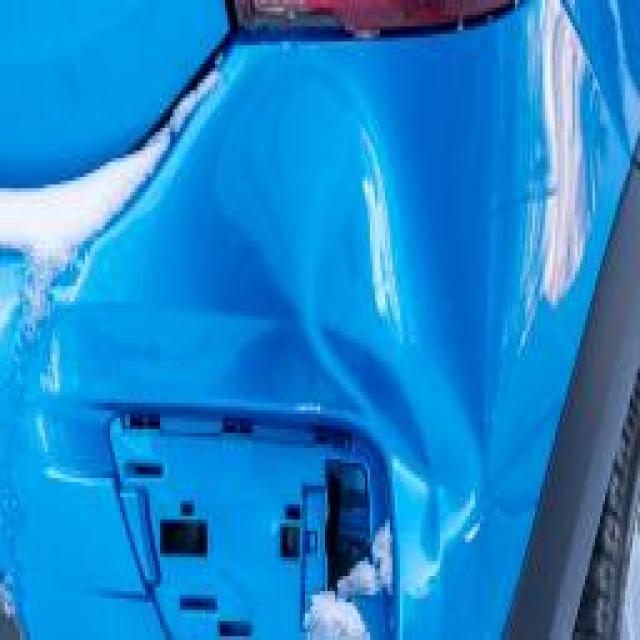Bumper: (0, 7, 640, 640)
